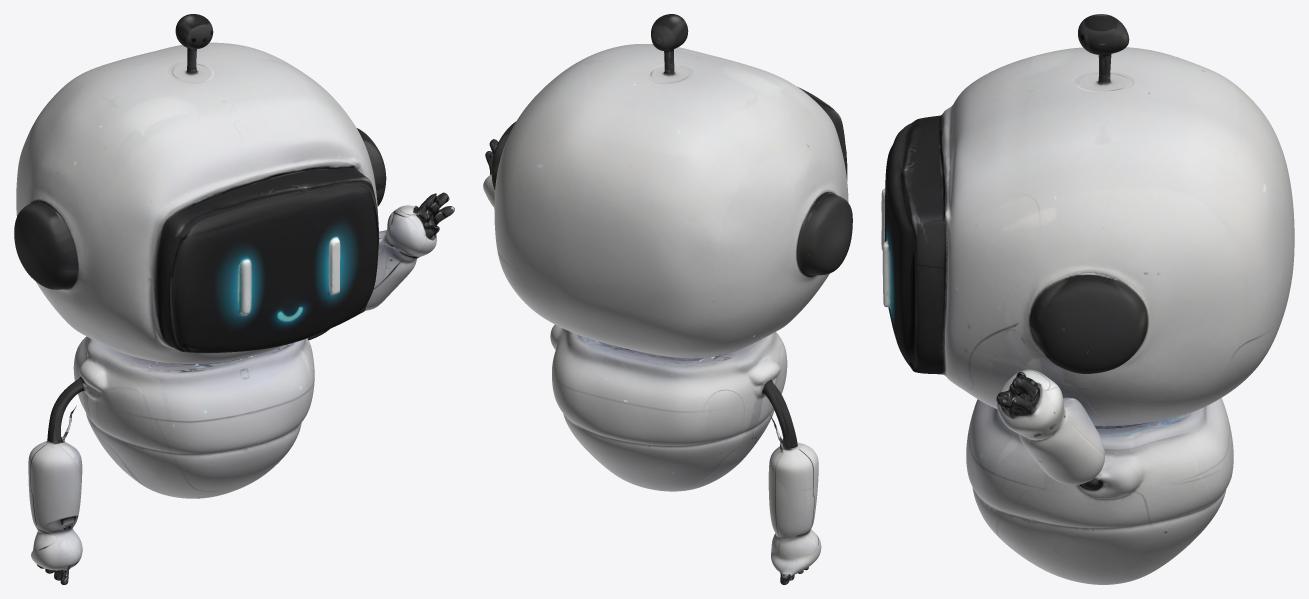
Rendered from smiling_robot_waving.glb.
3 views of the same model, side by side, from view 1: azimuth 30°, elevation 25°; view 2: azimuth 150°, elevation 25°; view 3: azimuth 270°, elevation 25° (orthographic). The views are drawn at different scales.
Parts seen in each view (by area): view 1: Object_4, Object_6, Object_5; view 2: Object_5, Object_4, Object_6; view 3: Object_4, Object_5, Object_6.
Boxes of the visible parts, x1,y1,x2,y2 form: Object_4: (14,14,379,584); Object_6: (43,72,454,498); Object_5: (14,16,386,584); Object_5: (492,15,852,584); Object_4: (491,14,850,573); Object_6: (483,44,852,418); Object_4: (881,14,1211,584); Object_5: (1013,17,1294,583); Object_6: (944,49,1072,579).
Bounding box in the file's own units: 1.42 × 1.84 × 1.1.
1 material, 1 textured.
